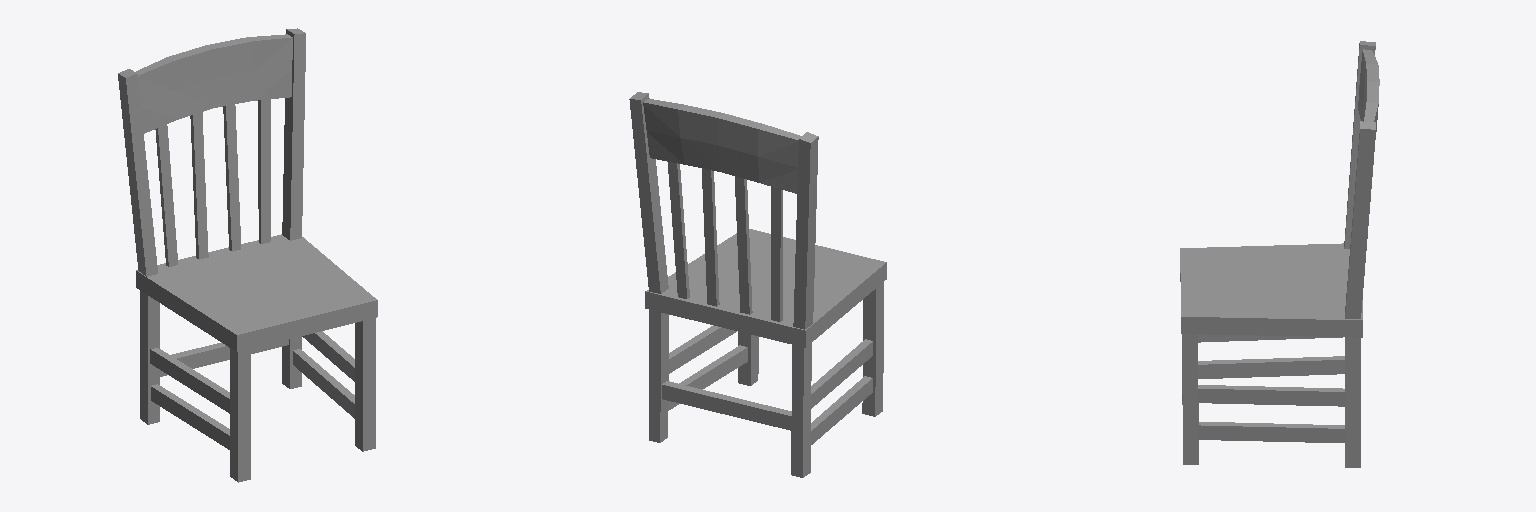
The model's file is chair.obj.
The picture shows the model from 3 angles: view 1: azimuth 30°, elevation 25°; view 2: azimuth 150°, elevation 25°; view 3: azimuth 270°, elevation 25°; orthographic projection.
Bounding box in the file's own units: 1.24 × 2.28 × 1.18.